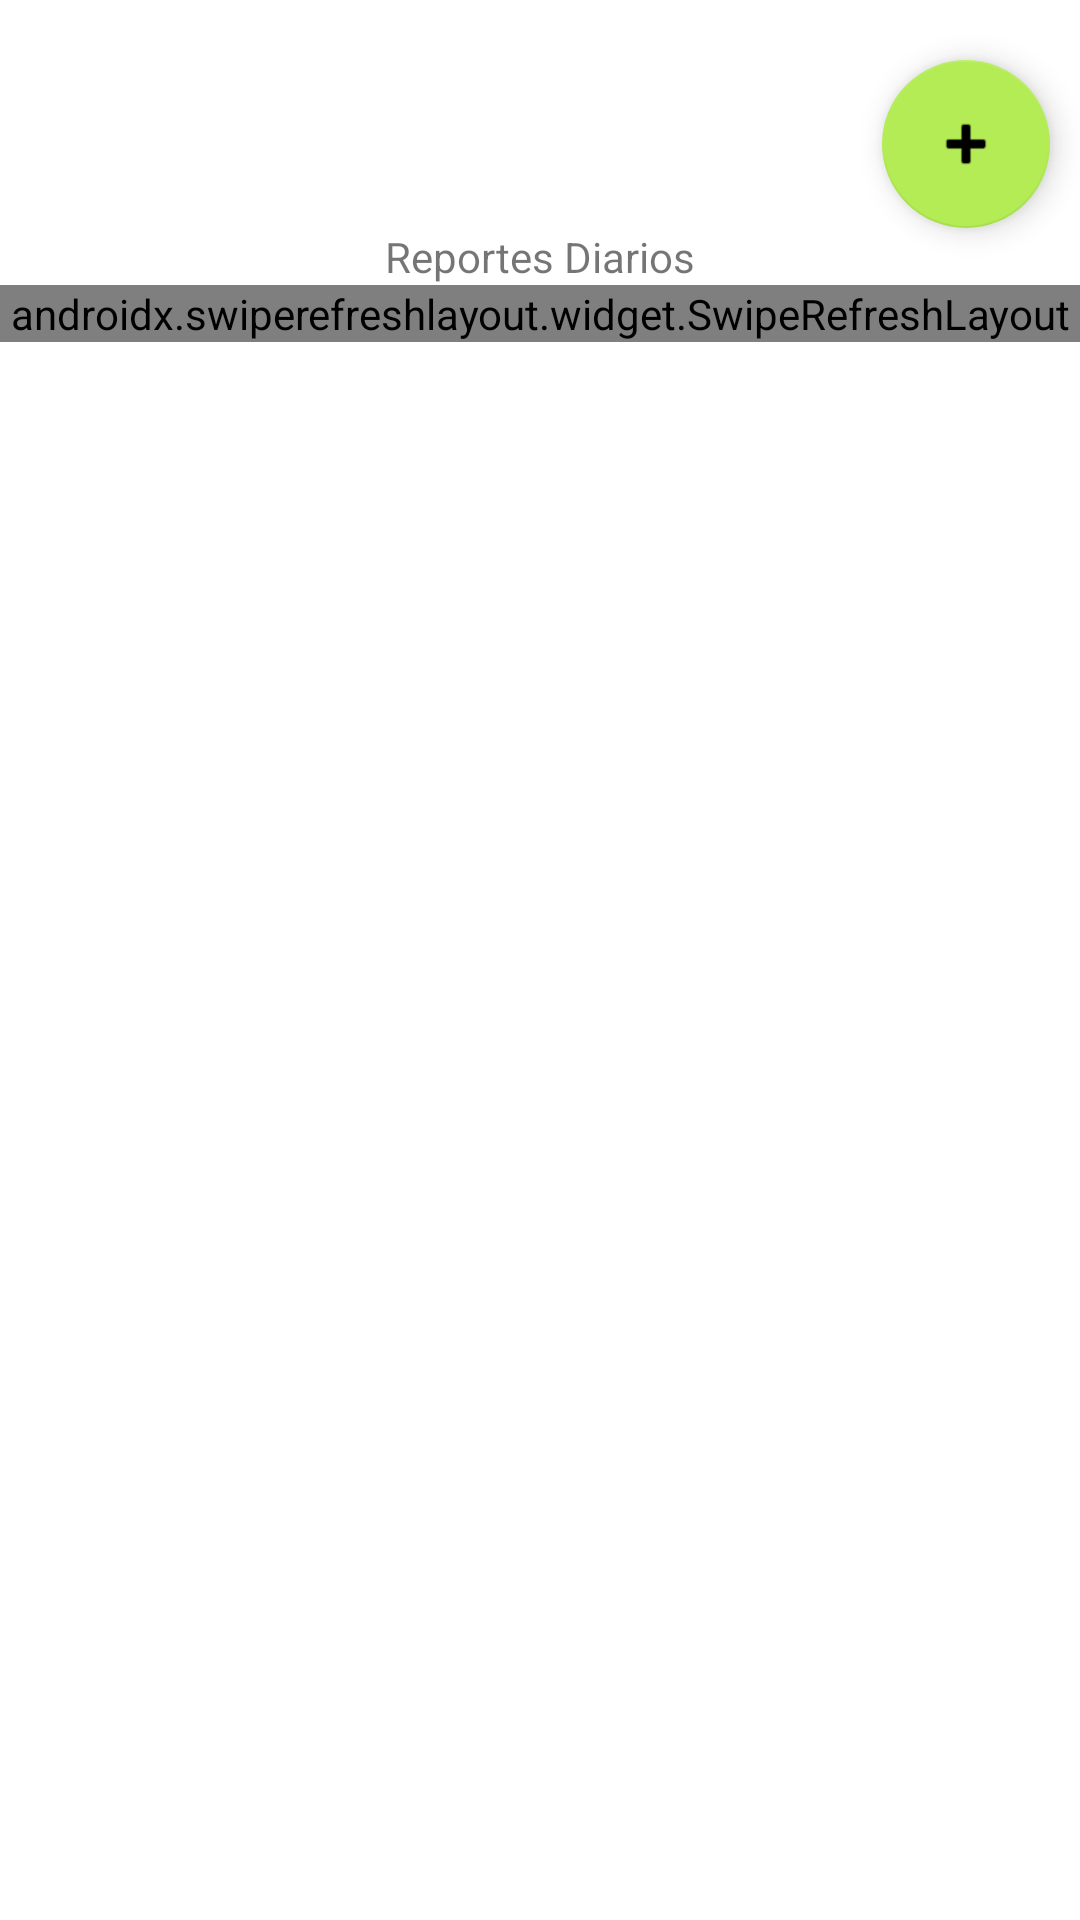

Where to tap for icons on this 1080 × 1920 app screen, as [x,y]:
add: [966,144]
